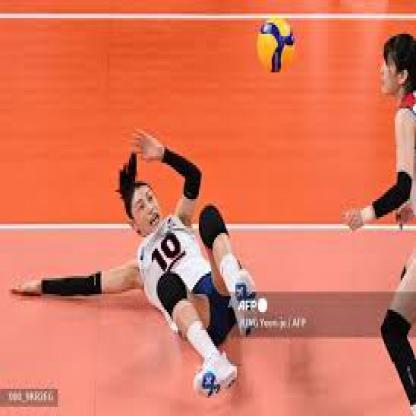Fall_Down: (11, 130, 260, 395)
